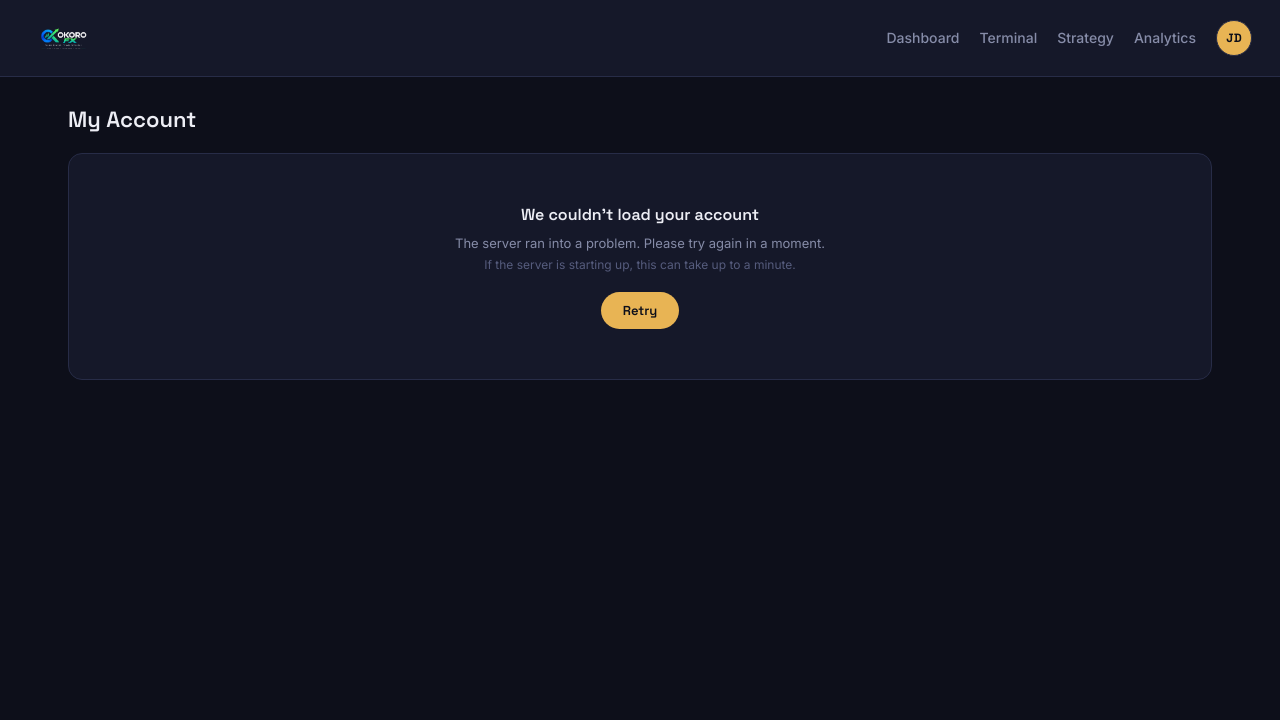
Test: the Retry button asks the API again
The image size is (1280, 720).
Click the button "Retry" at (640,310), box top-left (601, 292), bottom-right (679, 329)
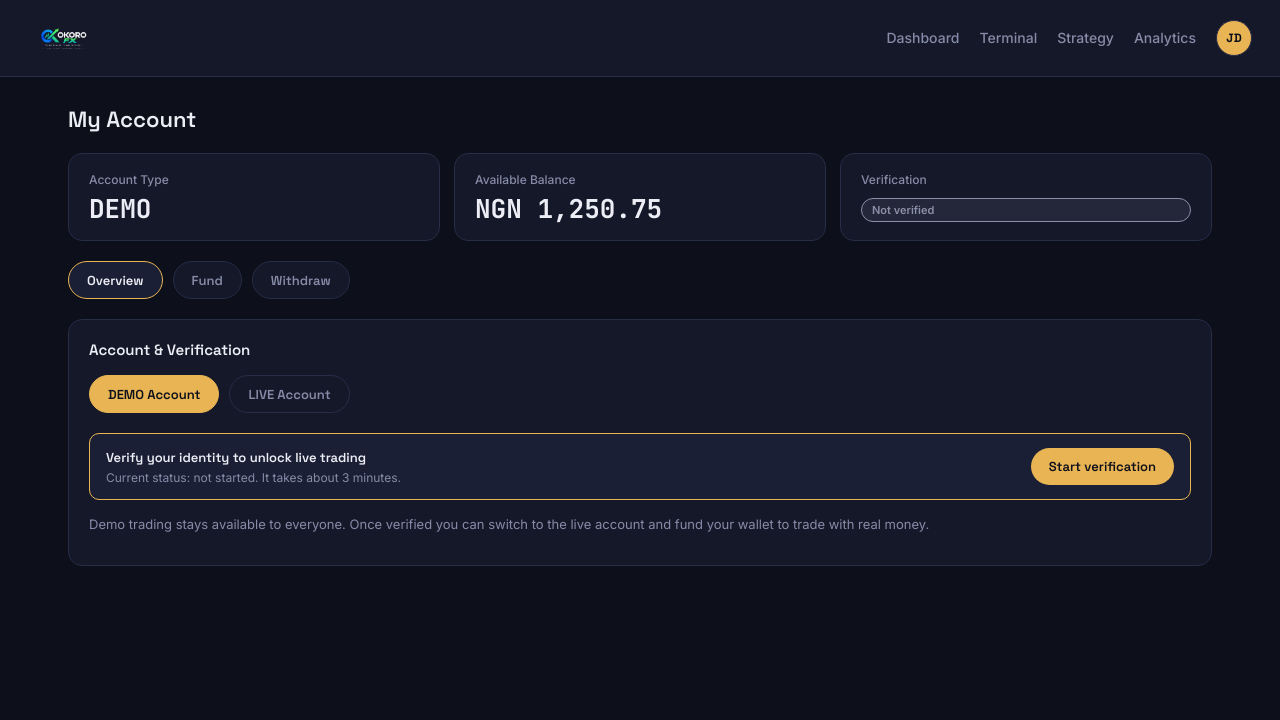
Result: the text "DEMO" is shown at top-left (89, 196), bottom-right (151, 222)
